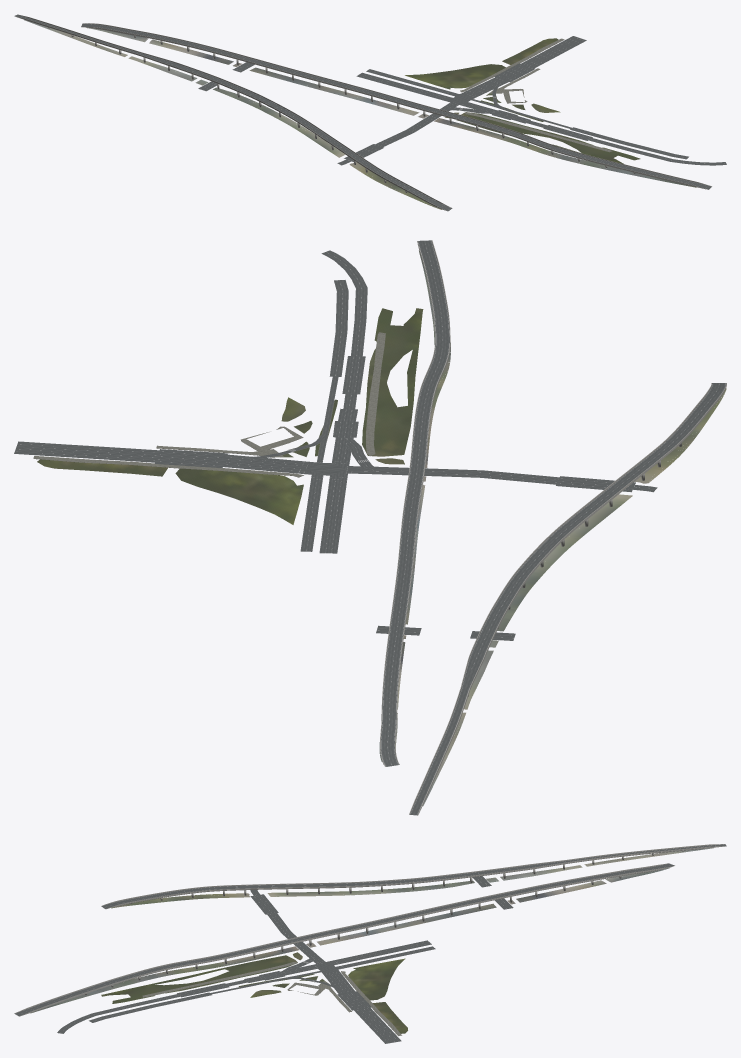
The picture shows the model from 3 angles, top to bottom: view 1: azimuth 30°, elevation 25°; view 2: azimuth 150°, elevation 25°; view 3: azimuth 270°, elevation 25°; orthographic projection. The views are drawn at different scales.
Visible parts, largest first — view 1: Marina Centre asphalt, Marina Centre asphalt (flyovers), Flyover parapets, box girders and piers (flyovers), Planted road margins, rochor undercroft, sheares undercroft, Paved approaches and stone kerbs; view 2: Marina Centre asphalt, Marina Centre asphalt (flyovers), Planted road margins, Flyover parapets, box girders and piers (flyovers), sheares undercroft, Paved approaches and stone kerbs, Marina Centre road paint (flyovers), rochor undercroft; view 3: Marina Centre asphalt, Flyover parapets, box girders and piers (flyovers), Marina Centre asphalt (flyovers), Planted road margins, rochor undercroft, sheares undercroft, Paved approaches and stone kerbs.
Boxes of the visible parts, x1=… form: Marina Centre asphalt: x1=344, y1=36, x2=726, y2=165; Marina Centre asphalt (flyovers): x1=15, y1=14, x2=711, y2=210; Flyover parapets, box girders and piers (flyovers): x1=14, y1=14, x2=711, y2=211; Planted road margins: x1=405, y1=38, x2=640, y2=163; rochor undercroft: x1=87, y1=27, x2=696, y2=187; sheares undercroft: x1=24, y1=20, x2=441, y2=209; Paved approaches and stone kerbs: x1=460, y1=38, x2=612, y2=152; Marina Centre asphalt: x1=14, y1=250, x2=635, y2=553; Marina Centre asphalt (flyovers): x1=376, y1=240, x2=726, y2=815; Planted road margins: x1=37, y1=308, x2=423, y2=524; Flyover parapets, box girders and piers (flyovers): x1=380, y1=240, x2=726, y2=815; sheares undercroft: x1=423, y1=388, x2=726, y2=805; Paved approaches and stone kerbs: x1=33, y1=332, x2=385, y2=477; Marina Centre road paint (flyovers): x1=378, y1=241, x2=725, y2=814; rochor undercroft: x1=379, y1=251, x2=450, y2=761; Marina Centre asphalt: x1=57, y1=894, x2=435, y2=1043; Flyover parapets, box girders and piers (flyovers): x1=14, y1=844, x2=725, y2=1016; Marina Centre asphalt (flyovers): x1=14, y1=844, x2=726, y2=1016; Planted road margins: x1=101, y1=952, x2=407, y2=1033; rochor undercroft: x1=30, y1=868, x2=669, y2=1013; sheares undercroft: x1=111, y1=847, x2=713, y2=908; Paved approaches and stone kerbs: x1=142, y1=962, x2=401, y2=1035.
Size of the model in its own units: 418 by 9.07 by 631.
7 materials, 5 textured.
